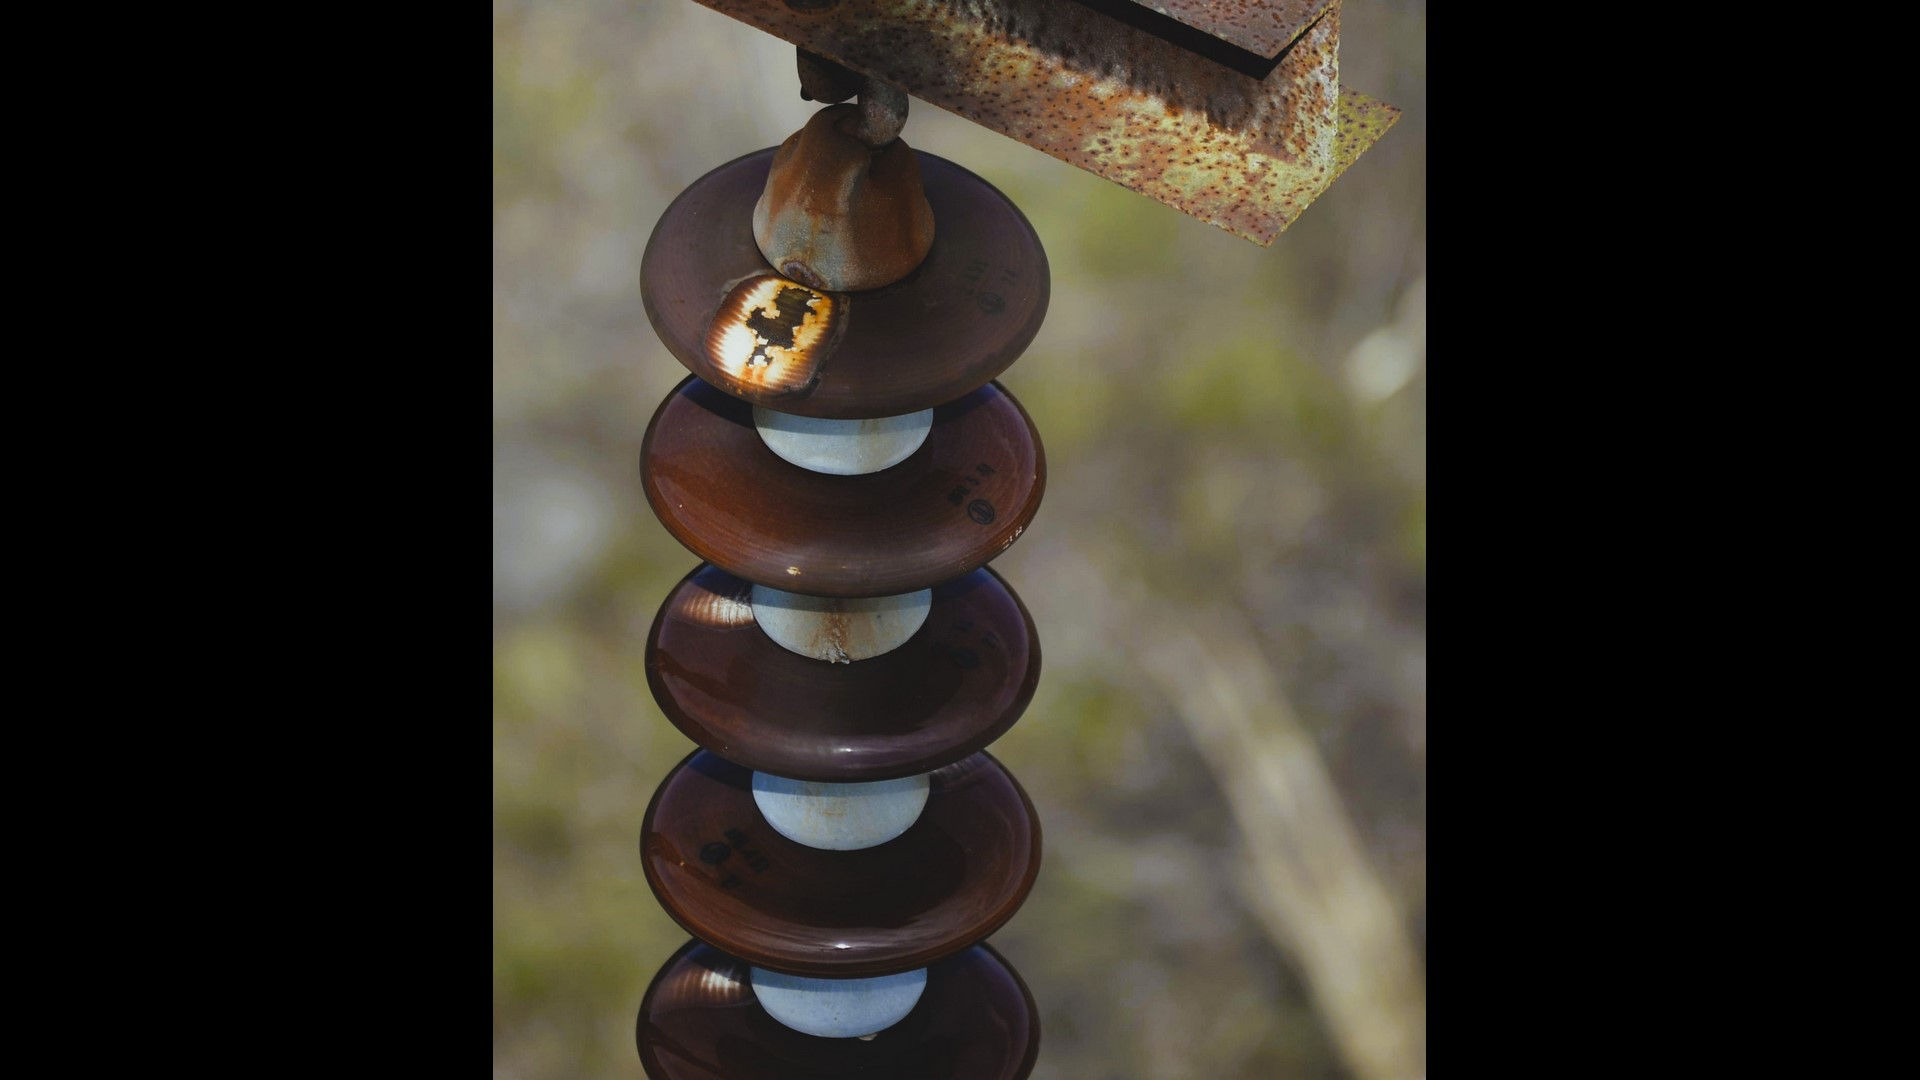Insulator flashover: (625, 132, 1071, 425)
